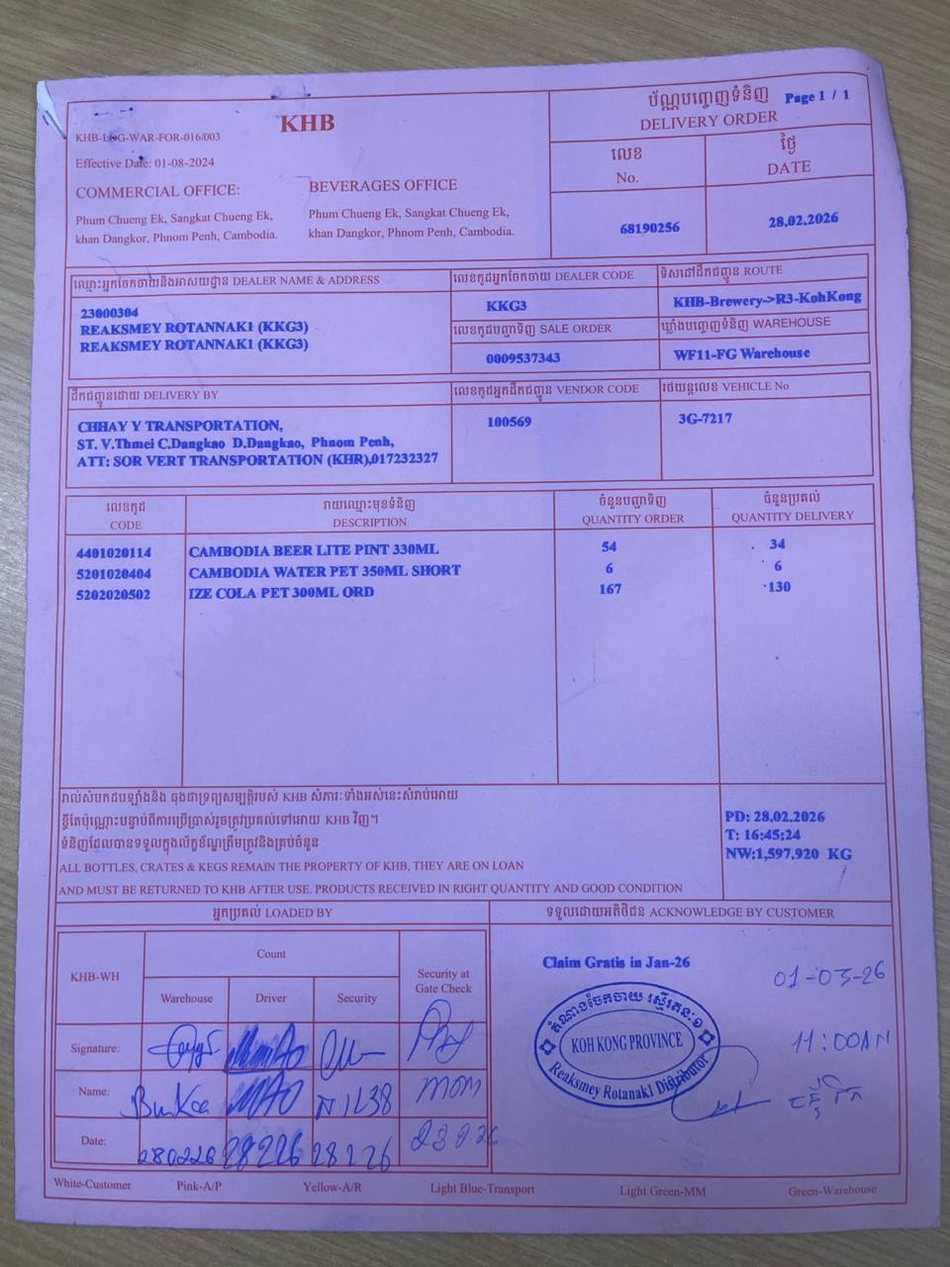Dealer Code: (449, 262, 657, 317)
Invoice Date: (707, 179, 875, 252)
Invoice No: (547, 187, 707, 256)
Sale Order: (452, 316, 660, 375)
Vehicle Code: (659, 375, 881, 484)
Vender Code: (450, 373, 664, 485)
